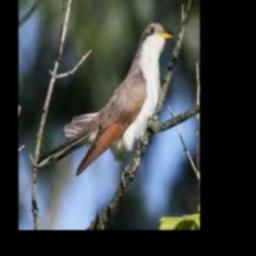Cuckoo: (36, 22, 174, 173)
